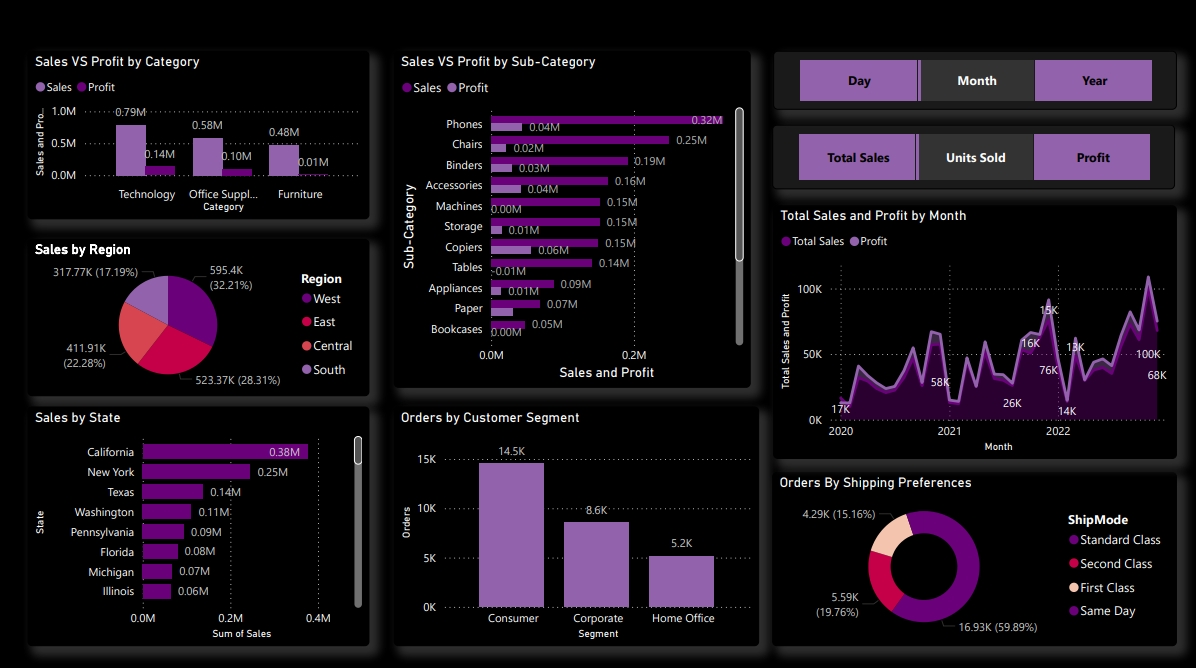

What the dashboard file says about the page in this screenshot:
{"tool":"powerbi","page":{"name":"Superstore Overview","canvas":[1280,720],"ordinal":0},"visuals":[{"type":"pieChart","title":"Sales by Region","fields":{"Category":["SalesData.Region"],"Y":["Sum(SalesData.Sales)"]},"box":[30.8,259,365.4,167.9],"z":0},{"type":"barChart","title":"Sales by State","fields":{"Category":["SalesData.State"],"Y":["Sum(SalesData.Sales)"]},"box":[30.8,438.5,365.4,255.1],"z":1000},{"type":"clusteredColumnChart","title":"Sales VS Profit by Category","fields":{"Y":["Sum(SalesData.Sales)","Sum(SalesData.Profit)"],"Category":["SalesData.Category"]},"box":[30.8,57.7,365.4,180.8],"z":2000},{"type":"clusteredBarChart","title":"Sales VS Profit by Sub-Category","fields":{"Y":["Sum(SalesData.Sales)","Sum(SalesData.Profit)"],"Category":["SalesData.SubCategory"]},"box":[421.8,57.7,380.8,360.3],"z":3000},{"type":"slicer","box":[943.4,590.3,235.9,20.4],"z":4000},{"type":"slicer","box":[910.3,522.7,66.3,12.7],"z":5001},{"type":"clusteredColumnChart","title":"Orders by Customer Segment","fields":{"Y":["Sum(SalesData.Quantity)"],"Category":["SalesData.Segment"]},"box":[421.8,438.5,389.7,255.1],"z":5002},{"type":"donutChart","title":"Orders By Shipping Preferences","fields":{"Category":["SalesData.ShipMode"],"Y":["Sum(SalesData.Quantity)"]},"box":[825.6,507.7,432.1,185.9],"z":5003},{"type":"stackedAreaChart","fields":{"Category":["Calendar.Month"],"Y":["Metrics.Total Sales","Metrics.Profit"]},"box":[826.9,223.1,430.8,270.5],"z":5005},{"type":"slicer","fields":{"Values":["Parameter2.Parameter2"]},"box":[825.6,137.2,430.8,69.2],"z":5006},{"type":"slicer","fields":{"Values":["Parameter.Parameter"]},"box":[826.9,57.7,430.8,62.8],"z":5007}]}

Visuals, with their boxes in screenshot pixels (x1, y1, x2, y2), scaled from the page's 1280x720 canvas onto the 1196x668 screenshot:
"Sales by Region" pieChart: 29,240,370,396
"Sales by State" barChart: 29,407,370,644
"Sales VS Profit by Category" clusteredColumnChart: 29,54,370,221
"Sales VS Profit by Sub-Category" clusteredBarChart: 394,54,750,388
slicer: 881,548,1102,567
slicer: 851,485,913,497
"Orders by Customer Segment" clusteredColumnChart: 394,407,758,644
"Orders By Shipping Preferences" donutChart: 771,471,1175,644
stackedAreaChart - Calendar.Month x Metrics.Total Sales: 773,207,1175,458
slicer - Parameter2.Parameter2: 771,127,1174,191
slicer - Parameter.Parameter: 773,54,1175,112
